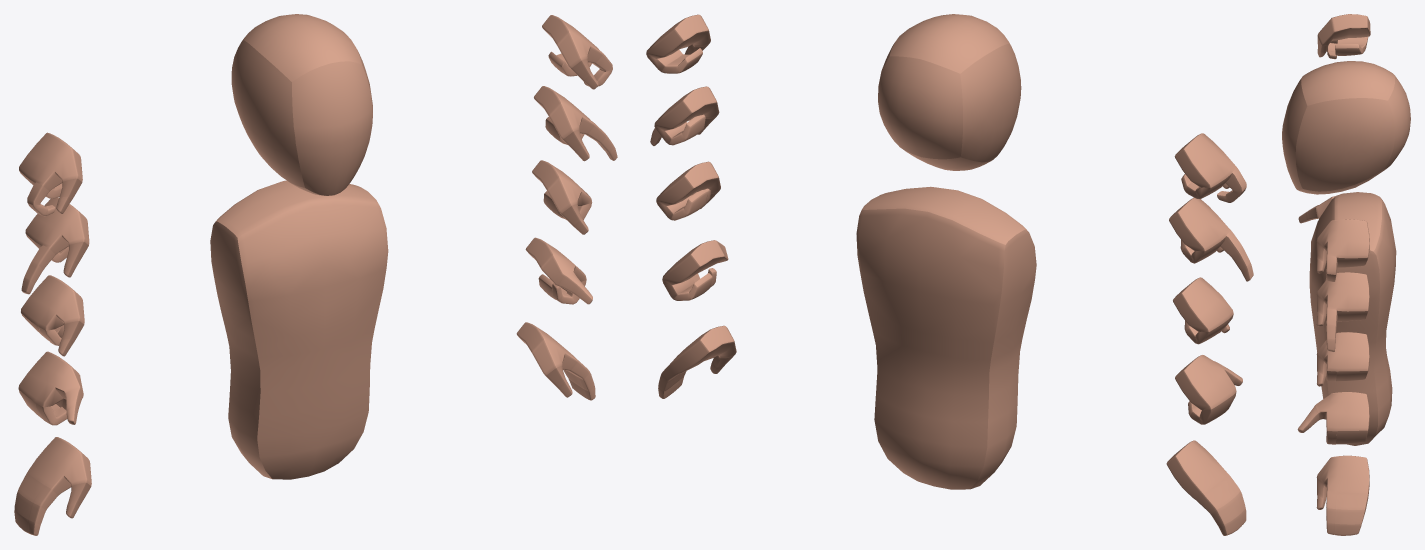
Rendered from rec_room_player_model.glb.
The picture shows the model from 3 angles, left to right: view 1: azimuth 30°, elevation 25°; view 2: azimuth 150°, elevation 25°; view 3: azimuth 270°, elevation 25°; orthographic projection. The views are drawn at different scales.
Visible parts, largest first — view 1: Body, Head, HandR_1, HandR_5, HandR_4, HandR_2, HandR_3, HandL_1, HandL_5, HandL_4, HandL_2, HandL_3; view 2: Body, Head, HandR_1, HandR_4, HandR_5, HandR_2, HandR_3, HandL_4, HandL_5, HandL_1, HandL_2, HandL_3; view 3: Head, Body, HandL_1, HandL_4, HandL_2, HandL_5, HandL_3, HandR_5, HandR_2.
Part boxes in pixels (x1=…): Body: x1=210, y1=180, x2=388, y2=479; Head: x1=231, y1=14, x2=372, y2=195; HandR_1: x1=14, y1=437, x2=91, y2=535; HandR_5: x1=19, y1=132, x2=82, y2=216; HandR_4: x1=21, y1=197, x2=89, y2=294; HandR_2: x1=18, y1=351, x2=83, y2=425; HandR_3: x1=21, y1=275, x2=84, y2=356; HandL_1: x1=516, y1=322, x2=595, y2=400; HandL_5: x1=542, y1=15, x2=612, y2=89; HandL_4: x1=534, y1=86, x2=617, y2=161; HandL_2: x1=525, y1=237, x2=592, y2=304; HandL_3: x1=532, y1=160, x2=592, y2=234; Body: x1=856, y1=186, x2=1036, y2=489; Head: x1=878, y1=14, x2=1021, y2=170; HandR_1: x1=1166, y1=440, x2=1246, y2=535; HandR_4: x1=1169, y1=197, x2=1253, y2=281; HandR_5: x1=1174, y1=133, x2=1246, y2=202; HandR_2: x1=1175, y1=355, x2=1242, y2=424; HandR_3: x1=1173, y1=277, x2=1233, y2=344; HandL_4: x1=650, y1=86, x2=719, y2=145; HandL_5: x1=646, y1=14, x2=710, y2=73; HandL_1: x1=658, y1=325, x2=736, y2=398; HandL_2: x1=662, y1=240, x2=728, y2=300; HandL_3: x1=656, y1=161, x2=720, y2=220; Head: x1=1282, y1=61, x2=1410, y2=194; Body: x1=1309, y1=192, x2=1396, y2=445; HandL_1: x1=1316, y1=455, x2=1369, y2=535; HandL_4: x1=1316, y1=272, x2=1369, y2=351; HandL_2: x1=1297, y1=391, x2=1369, y2=444; HandL_5: x1=1316, y1=219, x2=1369, y2=281; HandL_3: x1=1316, y1=332, x2=1369, y2=386; HandR_5: x1=1317, y1=14, x2=1370, y2=59; HandR_2: x1=1298, y1=195, x2=1336, y2=223.
Bounding box in the file's own units: 1.28 × 0.9359 × 0.2955.
